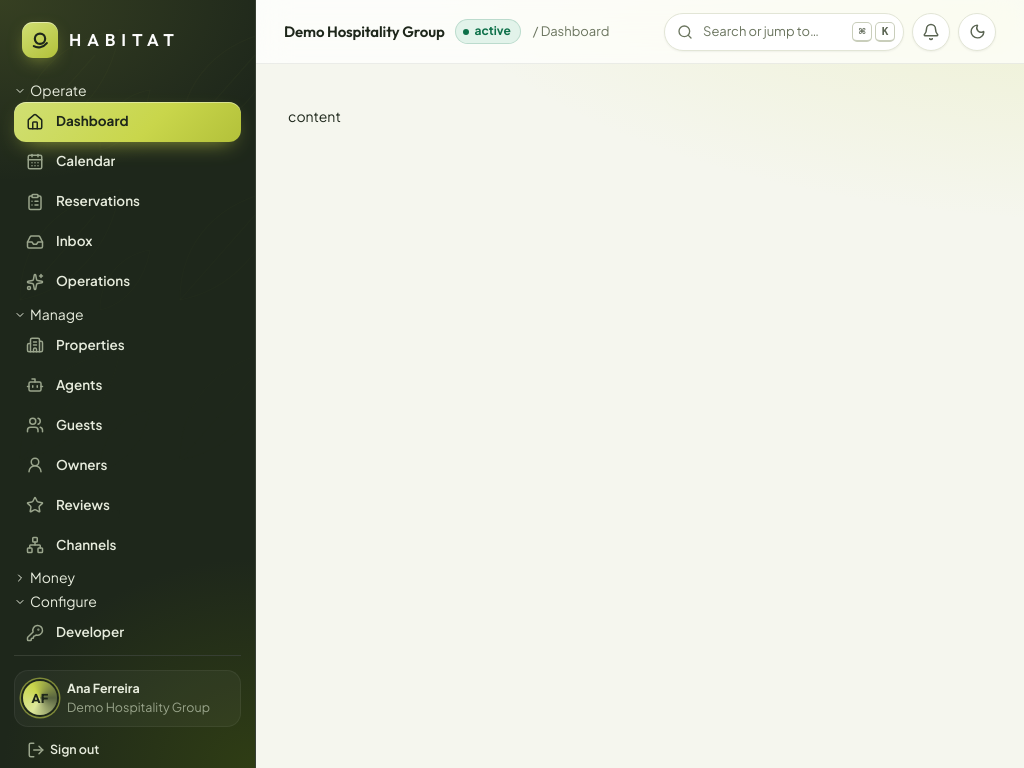
Test: the folded sidebar › opens when asked, and the links are reachable again
The width and height of the screenshot is (1024, 768).
Expected: the text "Demo Hospitality Group" next to "active" is shown, [284,22,445,41]
Click the button "Money": (128,578) [14,567,241,589]
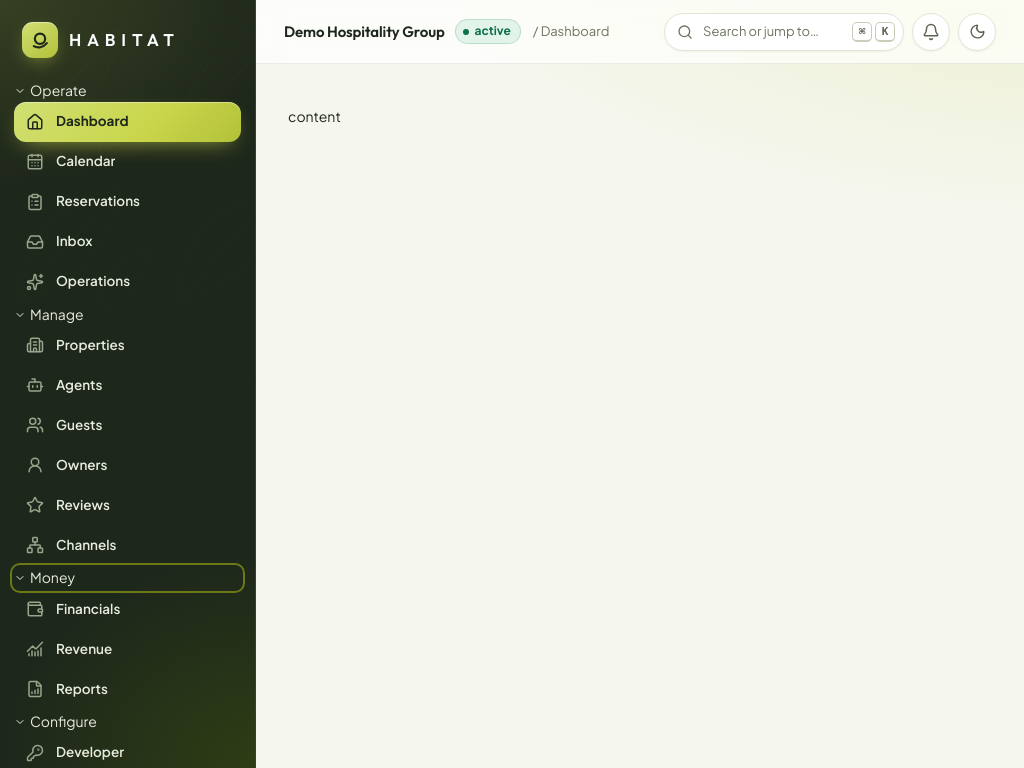
Result: the link "Revenue" is shown at [26,640,112,658]
Result: the link "Reports" is shown at [26,680,108,698]
